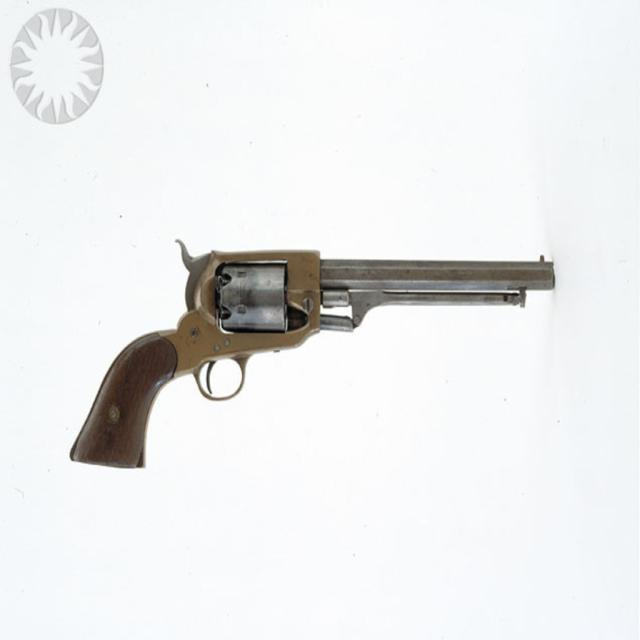Gun: (70, 241, 554, 467)
